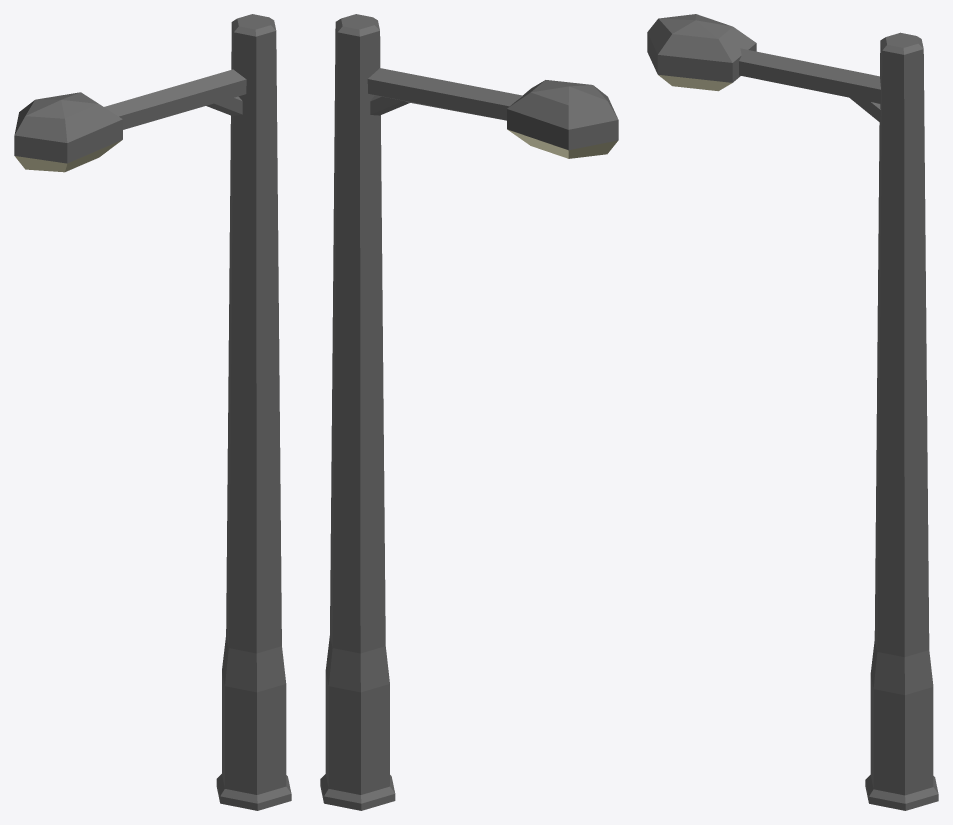
File: StreetLight.fbx
The picture shows the model from 3 angles, left to right: view 1: azimuth 30°, elevation 25°; view 2: azimuth 150°, elevation 25°; view 3: azimuth 330°, elevation 25°; orthographic projection. The views are drawn at different scales.
Parts seen in each view (by area): view 1: CityLamp.001; view 2: CityLamp.001; view 3: CityLamp.001.
Part boxes in pixels (left/top/right/bottom): CityLamp.001: left=14, top=14, right=291, bottom=810; CityLamp.001: left=320, top=14, right=618, bottom=810; CityLamp.001: left=647, top=14, right=938, bottom=810.
Size of the model in its own units: 659 by 1700 by 201.
